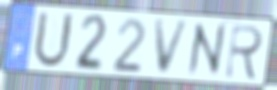2: (73, 12, 108, 73), (111, 16, 147, 74)
N: (186, 21, 228, 79)
R: (223, 23, 266, 82)
U: (31, 9, 76, 71)
V: (153, 19, 192, 77)
